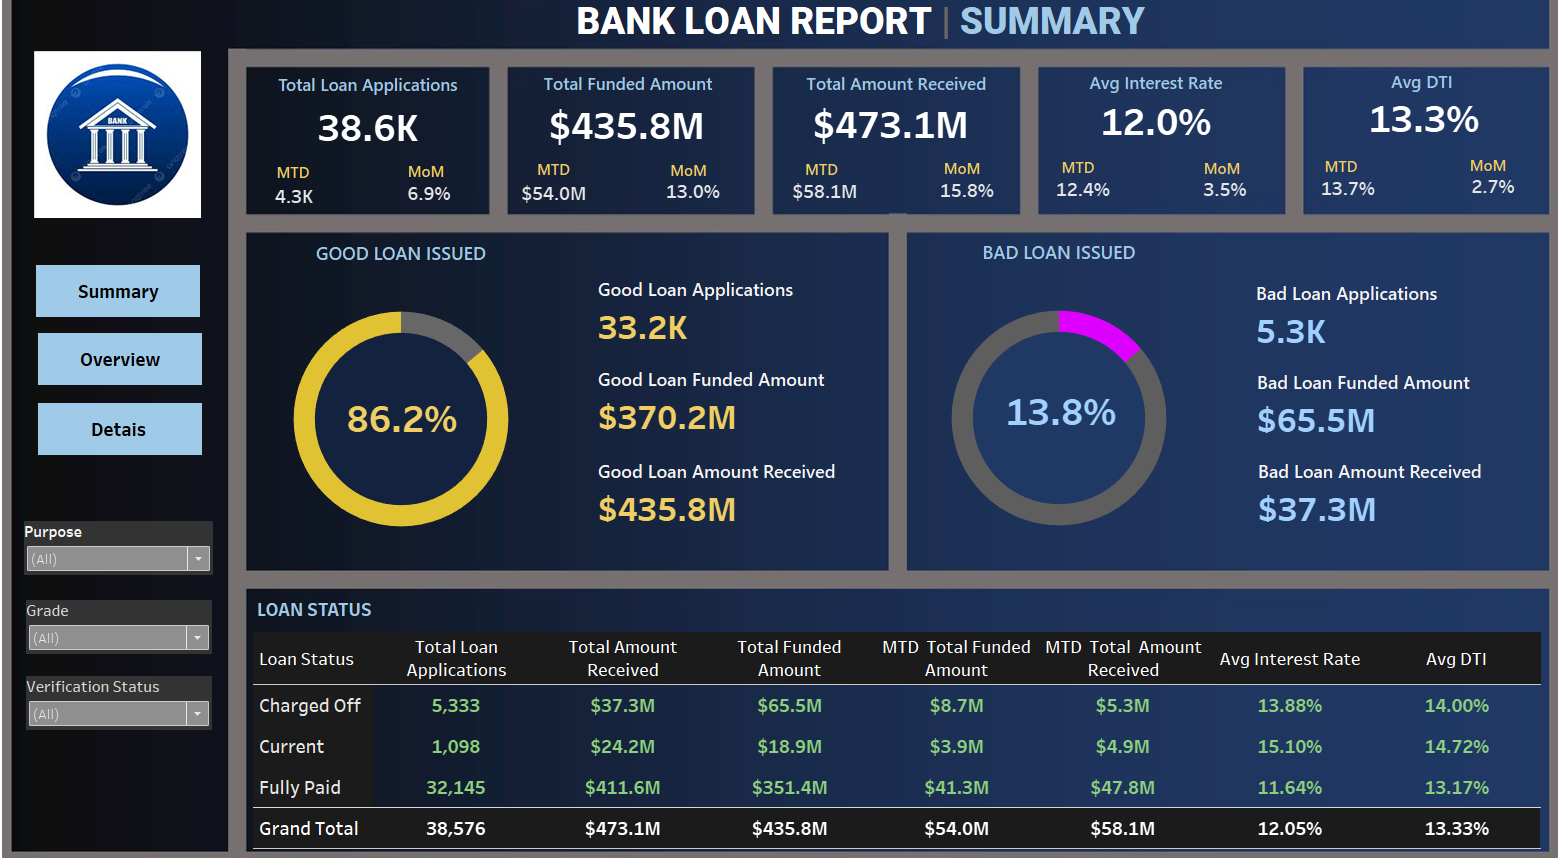

The dashboard page shown, as its layout file describes it:
{"tool":"tableau","page":{"name":"SUMMARY","canvas":[1600,900],"ordinal":2},"visuals":[{"type":"image","param":"Image/Tableau Background 1.jpg","box":[8,8,1584,884]},{"type":"text","box":[592,25,582,50]},{"type":"image","param":"Image/bank.jpeg","box":[42,80,190,167]},{"type":"text","box":[1391,95,100,30]},{"type":"text","box":[1105,96,140,30]},{"type":"text","box":[559,97,176,30]},{"type":"text","box":[820,97,191,30]},{"type":"worksheet","title":"Total Loan Applications","mark":"Automatic","box":[267,98,240,75]},{"type":"worksheet","title":"Avg DTI","mark":"Automatic","box":[1380,100,127,72]},{"type":"worksheet","title":"Avg Interest Rate","mark":"Automatic","box":[1110,103,129,72]},{"type":"worksheet","title":"Total Funded Amount","mark":"Automatic","box":[561,104,169,77]},{"type":"worksheet","title":"Total Amount Received","mark":"Automatic","box":[825,104,169,75]},{"type":"text","box":[957,179,48,36]},{"type":"text","box":[1481,179,52,30]},{"type":"text","box":[1335,180,50,30]},{"type":"text","box":[547,181,51,33]},{"type":"text","box":[1209,182,64,30]},{"type":"text","box":[421,183,48,34]},{"type":"text","box":[284,184,56,34]},{"type":"text","box":[680,184,55,30]},{"type":"text","box":[817,184,47,28]},{"type":"text","box":[1071,184,52,23]},{"type":"worksheet","title":"MoM  Loan Applications","mark":"Automatic","box":[422,195,51,54]},{"type":"worksheet","title":"MoM Avg DTI","mark":"Automatic","box":[1483,195,57,40]},{"type":"worksheet","title":"MTD Total Loan Applications","mark":"Automatic","box":[286,196,54,58]},{"type":"worksheet","title":"MTD Avg DTI","mark":"Automatic","box":[1335,198,64,37]},{"type":"worksheet","title":"MTD Avg Interest Rate","mark":"Automatic","box":[1070,199,64,38]},{"type":"worksheet","title":"MoM Avg Interest Rate","mark":"Automatic","box":[1215,200,57,36]},{"type":"worksheet","title":"MoM  Total Funded Amount","mark":"Automatic","box":[680,201,64,37]},{"type":"worksheet","title":"MTD Total  Amount Received","mark":"Automatic","box":[802,201,83,37]},{"type":"worksheet","title":"MoM  Total  Amount Received","mark":"Automatic","box":[951,201,70,35]},{"type":"worksheet","title":"MTD Total Funded Amount","mark":"Automatic","box":[530,205,85,33]},{"type":"worksheet","title":"Bad Loan Issued","mark":"Pie","rows":["Calculation_1647473076541022209","Calculation_1647473076541022209"],"box":[928,265,300,325]},{"type":"worksheet","title":"Good Loan Issued","mark":"Pie","rows":["Calculation_1647473076541022209","Calculation_1647473076541022209"],"box":[270,266,300,325]},{"type":"dashboard-object","box":[55,294,164,52]},{"type":"worksheet","title":"Good Loan Applications","mark":"Automatic","box":[609,298,300,75]},{"type":"worksheet","title":"Bad Loan Applications ","mark":"Automatic","box":[1267,302,300,75]},{"type":"dashboard-object","box":[57,362,164,52]},{"type":"worksheet","title":"Good Loan Funded Amount","mark":"Automatic","box":[609,388,300,75]},{"type":"worksheet","title":"Bad Loan Funded Amount","mark":"Automatic","box":[1268,391,300,75]},{"type":"worksheet","title":"Good loan Application %","mark":"Automatic","box":[355,399,131,94]},{"type":"worksheet","title":"Bad Loan %","mark":"Automatic","box":[1019,414,122,49]},{"type":"dashboard-object","box":[57,432,164,52]},{"type":"worksheet","title":"Good Loan Amount Received","mark":"Automatic","box":[609,480,300,75]},{"type":"worksheet","title":"Bad Loan Amount Received","mark":"Automatic","box":[1269,480,300,75]},{"type":"filter","title":"Good Loan Issued","param":"[federated.0wwyalk12wt8di13ai1mo1gs98zu].[none:purpose:nk]","box":[43,550,189,54]},{"type":"worksheet","title":"LOAN STATUS","mark":"Automatic","rows":["loan_status"],"box":[272,621,1288,257]},{"type":"filter","title":"Good Loan Issued","param":"[federated.0wwyalk12wt8di13ai1mo1gs98zu].[none:grade:nk]","box":[45,629,186,54]},{"type":"filter","title":"Good Loan Issued","param":"[federated.0wwyalk12wt8di13ai1mo1gs98zu].[none:verification_status:nk]","box":[45,705,186,54]}]}

Visuals, with their boxes in screenshot pixels (x1, y1, x2, y2), scaled from the page's 1600x900 canvas onto the 1558x858 screenshot:
image: <bbox>8, 8, 1550, 850</bbox>
text: <bbox>576, 24, 1143, 72</bbox>
image: <bbox>41, 76, 226, 235</bbox>
text: <bbox>1354, 91, 1452, 119</bbox>
text: <bbox>1076, 92, 1212, 120</bbox>
text: <bbox>544, 92, 716, 121</bbox>
text: <bbox>798, 92, 984, 121</bbox>
"Total Loan Applications" worksheet: <bbox>260, 93, 494, 165</bbox>
"Avg DTI" worksheet: <bbox>1344, 95, 1467, 164</bbox>
"Avg Interest Rate" worksheet: <bbox>1081, 98, 1206, 167</bbox>
"Total Funded Amount" worksheet: <bbox>546, 99, 711, 173</bbox>
"Total Amount Received" worksheet: <bbox>803, 99, 968, 171</bbox>
text: <bbox>932, 171, 979, 205</bbox>
text: <bbox>1442, 171, 1493, 199</bbox>
text: <bbox>1300, 172, 1349, 200</bbox>
text: <bbox>533, 173, 582, 204</bbox>
text: <bbox>1177, 174, 1240, 202</bbox>
text: <bbox>410, 174, 457, 207</bbox>
text: <bbox>277, 175, 331, 208</bbox>
text: <bbox>662, 175, 716, 204</bbox>
text: <bbox>796, 175, 841, 202</bbox>
text: <bbox>1043, 175, 1094, 197</bbox>
"MoM  Loan Applications" worksheet: <bbox>411, 186, 461, 237</bbox>
"MoM Avg DTI" worksheet: <bbox>1444, 186, 1500, 224</bbox>
"MTD Total Loan Applications" worksheet: <bbox>278, 187, 331, 242</bbox>
"MTD Avg DTI" worksheet: <bbox>1300, 189, 1362, 224</bbox>
"MTD Avg Interest Rate" worksheet: <bbox>1042, 190, 1104, 226</bbox>
"MoM Avg Interest Rate" worksheet: <bbox>1183, 191, 1239, 225</bbox>
"MoM  Total Funded Amount" worksheet: <bbox>662, 192, 724, 227</bbox>
"MTD Total  Amount Received" worksheet: <bbox>781, 192, 862, 227</bbox>
"MoM  Total  Amount Received" worksheet: <bbox>926, 192, 994, 225</bbox>
"MTD Total Funded Amount" worksheet: <bbox>516, 195, 599, 227</bbox>
"Bad Loan Issued" worksheet (Pie marks): <bbox>904, 253, 1196, 562</bbox>
"Good Loan Issued" worksheet (Pie marks): <bbox>263, 254, 555, 563</bbox>
dashboard-object: <bbox>54, 280, 213, 330</bbox>
"Good Loan Applications" worksheet: <bbox>593, 284, 885, 356</bbox>
"Bad Loan Applications " worksheet: <bbox>1234, 288, 1526, 359</bbox>
dashboard-object: <bbox>56, 345, 215, 395</bbox>
"Good Loan Funded Amount" worksheet: <bbox>593, 370, 885, 441</bbox>
"Bad Loan Funded Amount" worksheet: <bbox>1235, 373, 1527, 444</bbox>
"Good loan Application %" worksheet: <bbox>346, 380, 473, 470</bbox>
"Bad Loan %" worksheet: <bbox>992, 395, 1111, 441</bbox>
dashboard-object: <bbox>56, 412, 215, 461</bbox>
"Good Loan Amount Received" worksheet: <bbox>593, 458, 885, 529</bbox>
"Bad Loan Amount Received" worksheet: <bbox>1236, 458, 1528, 529</bbox>
"Good Loan Issued" filter: <bbox>42, 524, 226, 576</bbox>
"LOAN STATUS" worksheet: <bbox>265, 592, 1519, 837</bbox>
"Good Loan Issued" filter: <bbox>44, 600, 225, 651</bbox>
"Good Loan Issued" filter: <bbox>44, 672, 225, 724</bbox>
